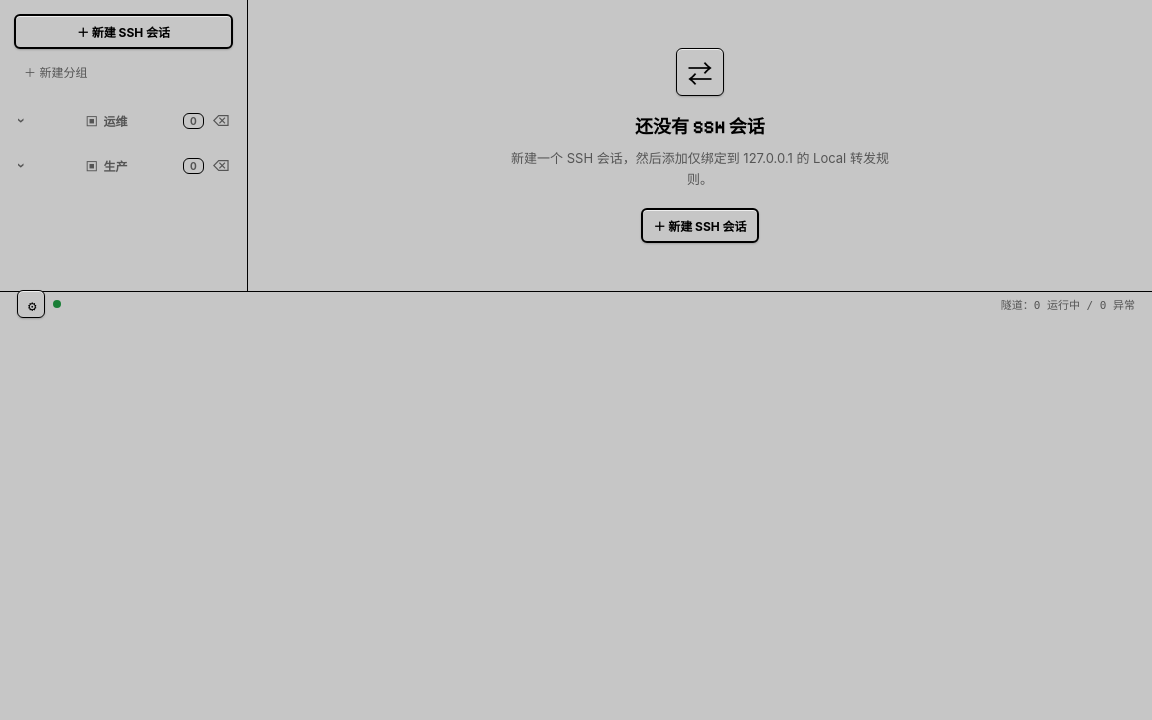
App › creates a session in the group selected in the dialog
Click the button with class "create-session" at (124, 32), box [14,14,233,49]
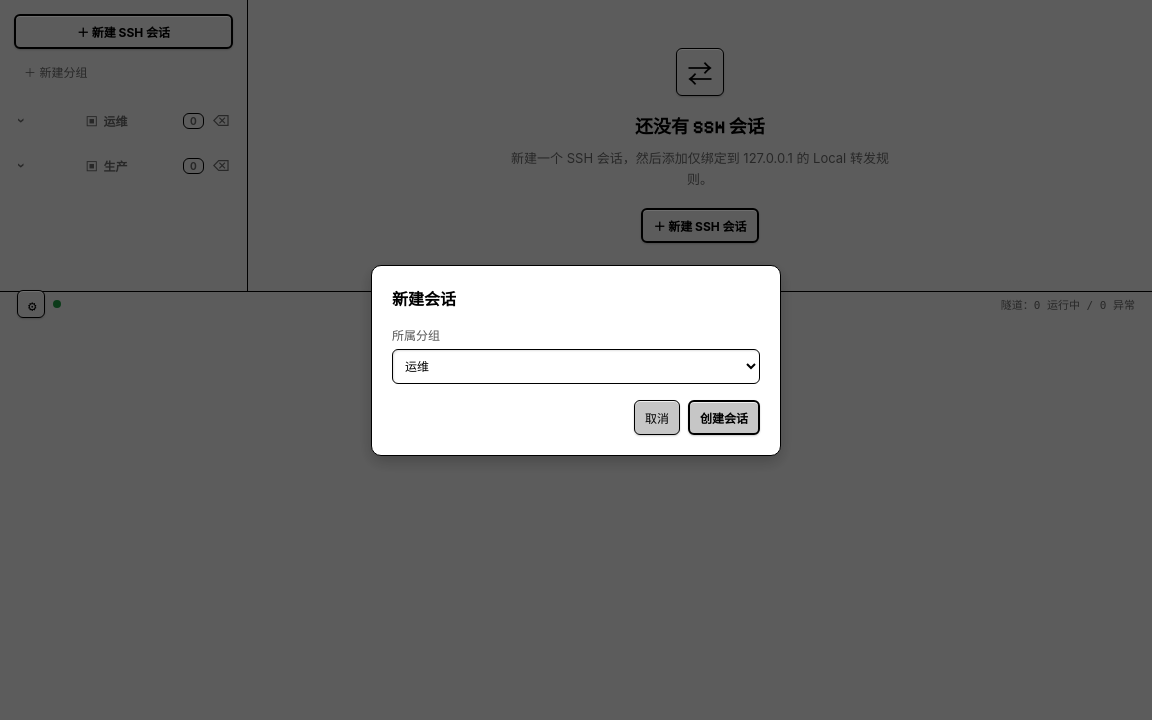
Select "生产" in the dropdown named "所属分组" at (576, 366), box [392,348,760,384]
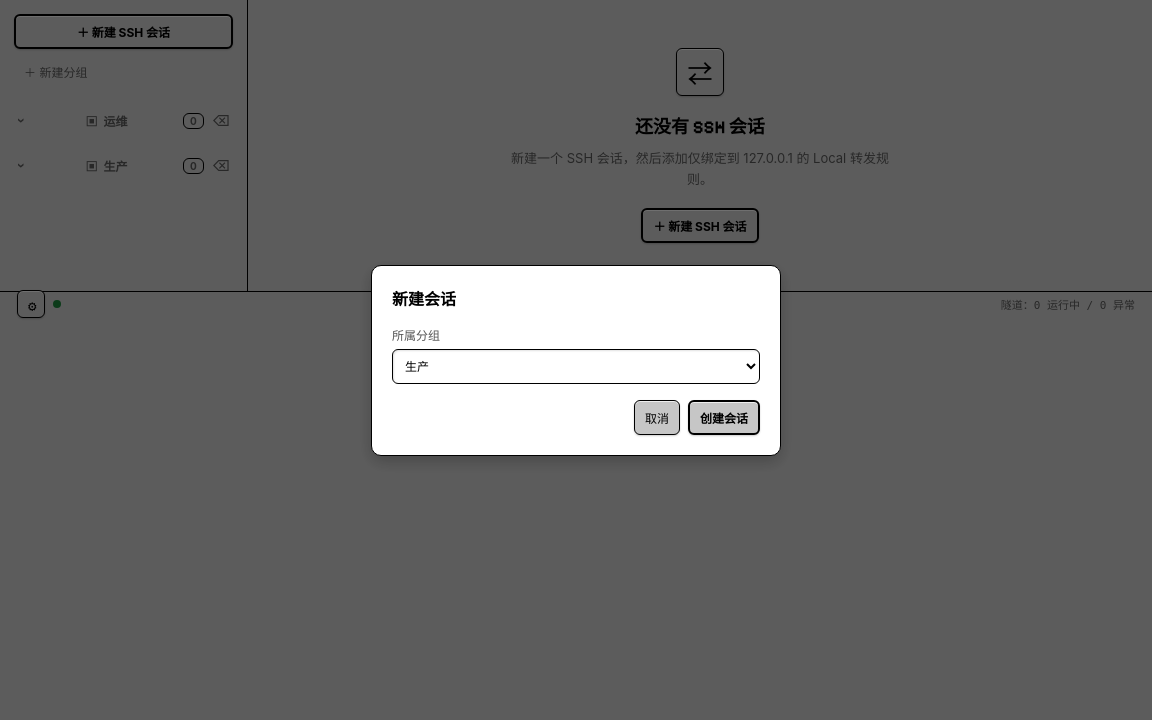
Click the button with test id "create-session-action" at (724, 417), box [688,400,760,434]
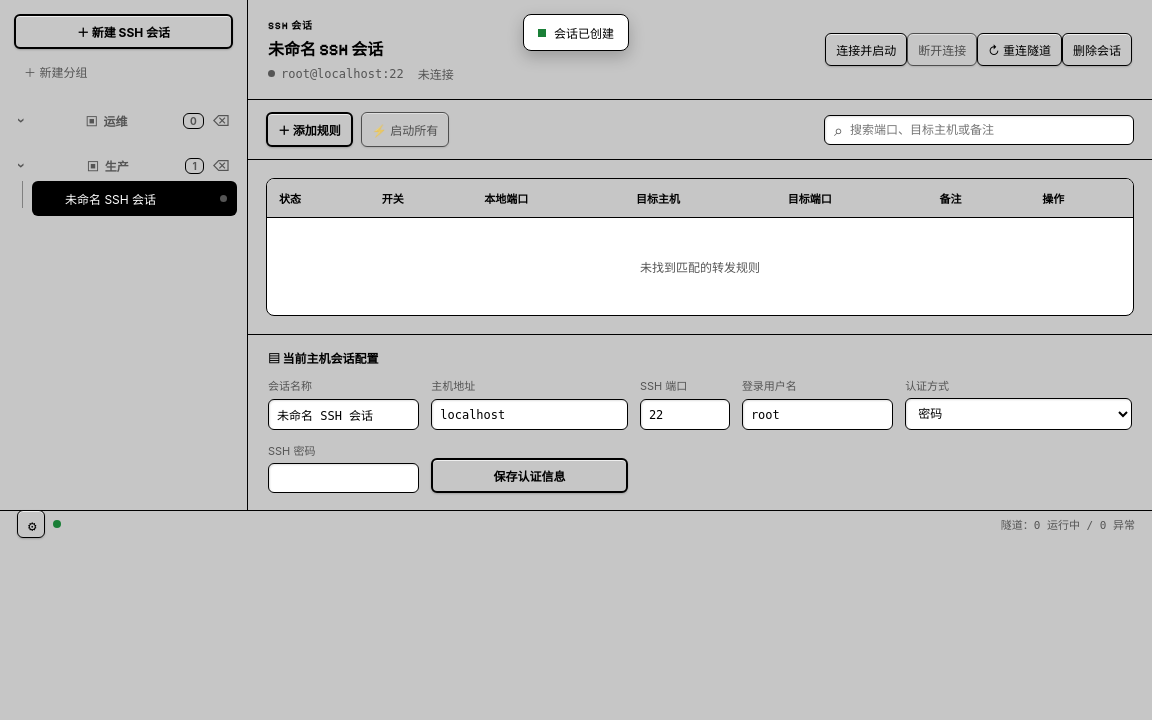
Check: the element with class "session-group" shows "未命名 SSH 会话", box [32,181,237,216]
